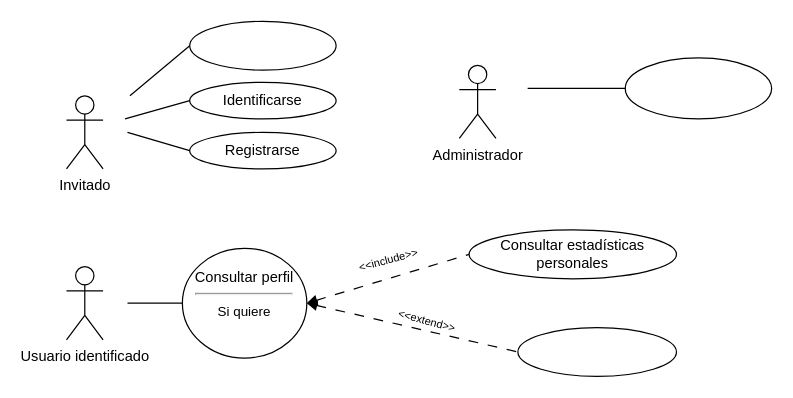
Some shapes in this 793 by 398 pixel diagram are drawn without their labels. The centre of each missing label's shape, as x and y in pixels:
Desactivar usuarios: point (698, 88)
Modificar datos personales: point (596, 351)
Recordar contraseña: point (262, 45)
